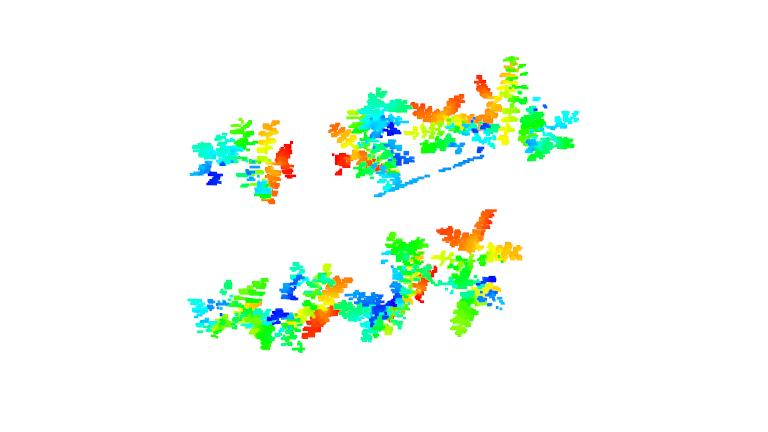chickpea: (182, 106, 300, 217), (426, 209, 527, 335), (471, 56, 584, 161), (345, 231, 436, 346), (320, 89, 414, 186), (272, 256, 356, 354), (188, 273, 279, 354), (409, 81, 491, 160)
